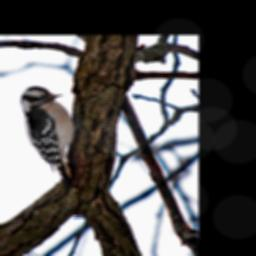Woodpecker: (20, 86, 88, 187)
